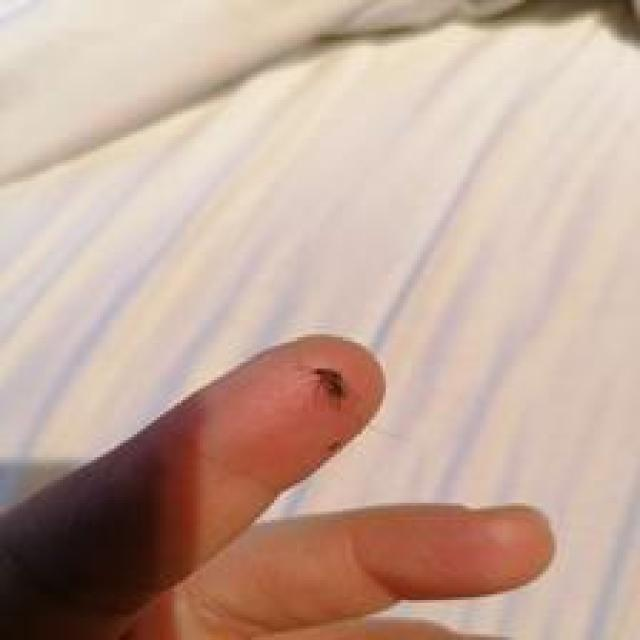Culex: (310, 366, 347, 400)
